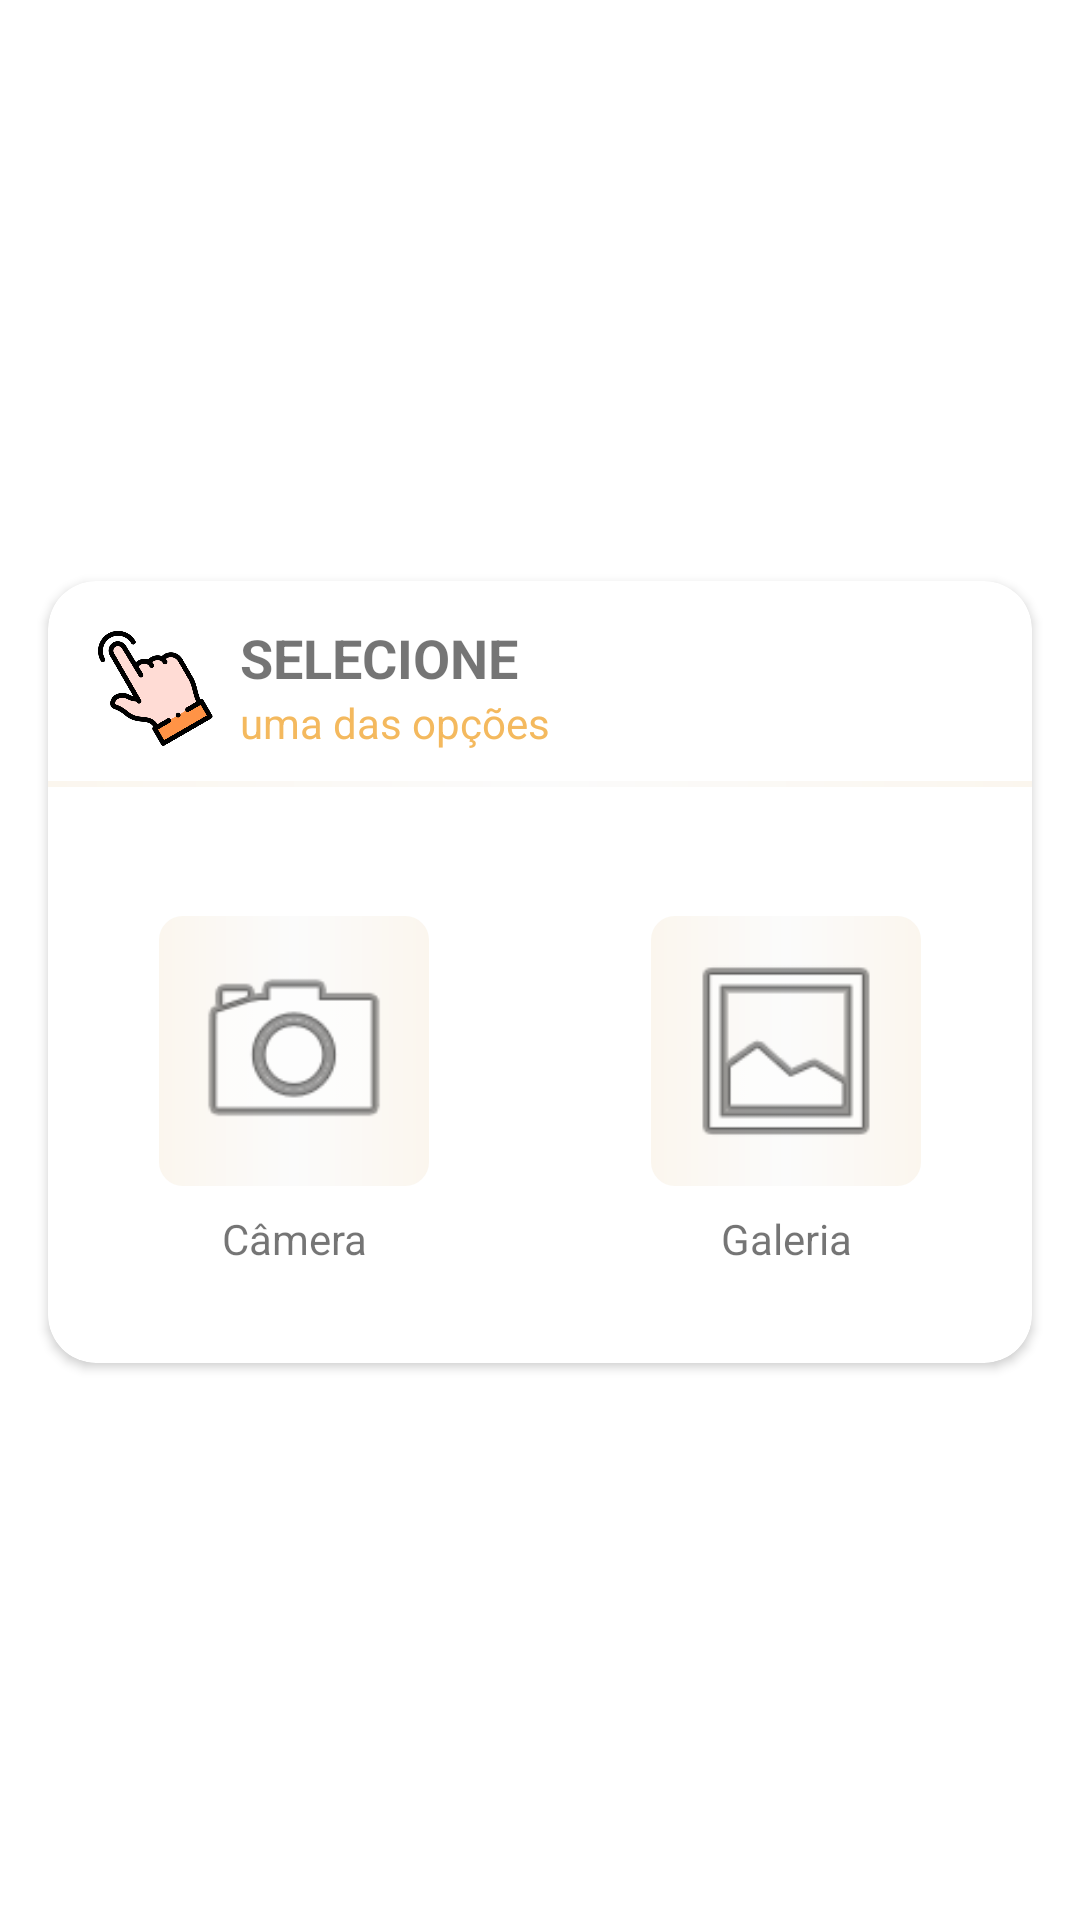

Where to tap for icons on this 1080*1920 app screen, as point (x, y):
camera: point (294, 1047)
gallery: point (786, 1051)
hand click inclined: point (155, 688)
